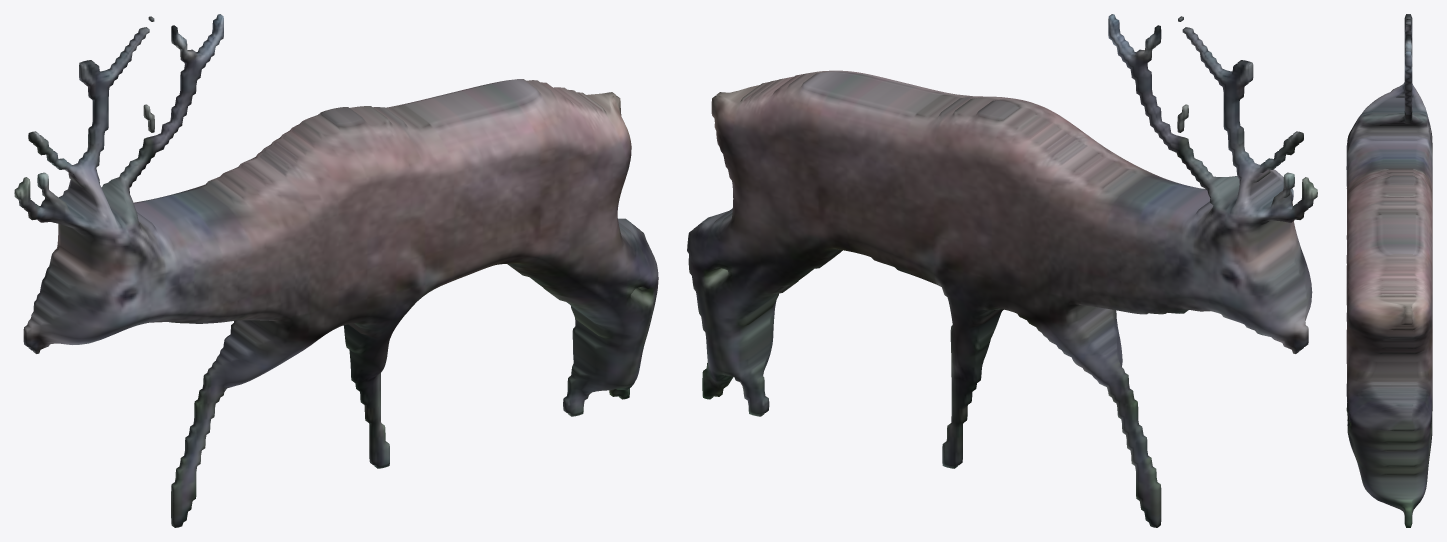
The model's file is red_deer_10941056.glb.
3 renders of one model, left to right at view 1: azimuth 30°, elevation 25°; view 2: azimuth 150°, elevation 25°; view 3: azimuth 270°, elevation 25°, orthographic. The views are drawn at different scales.
Parts seen in each view (by area): view 1: red_deer_10941056; view 2: red_deer_10941056; view 3: red_deer_10941056.
Boxes of the visible parts, box(x1,y1,x2,y2) form: red_deer_10941056: box(14, 14, 658, 527); red_deer_10941056: box(687, 14, 1317, 527); red_deer_10941056: box(1346, 14, 1432, 527).
Bounding box in the file's own units: 1.94 × 1.52 × 0.329.
Materials: 1 (1 with a texture image).
